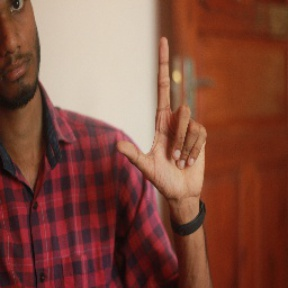L: (114, 35, 211, 194)
